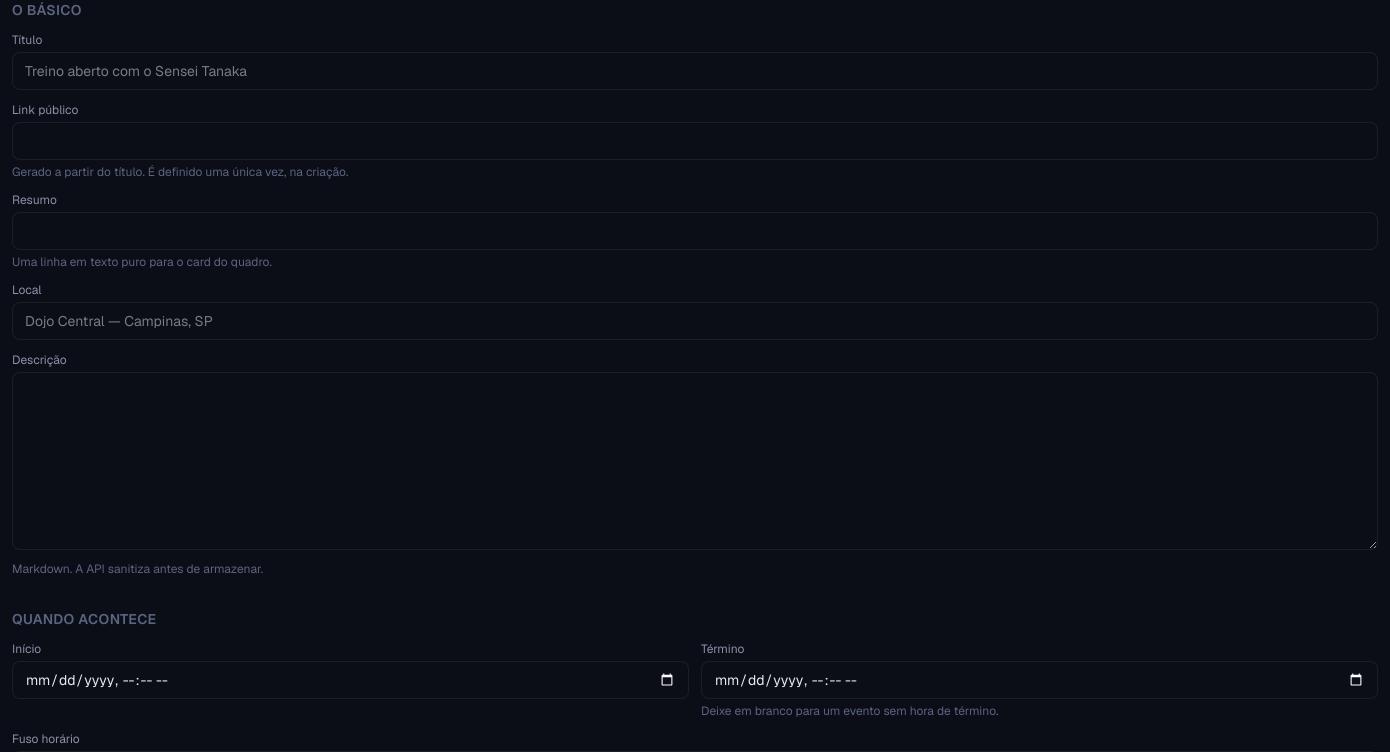
Test: EventForm — the WhatsApp message prefill › warns instead of overwriting once a human has edited the message
Type "Primeiro nome" into the field labelled "Título".
click(695, 71); type("Primeiro nome")  # box [12,52,1378,90]
(page scrolled)
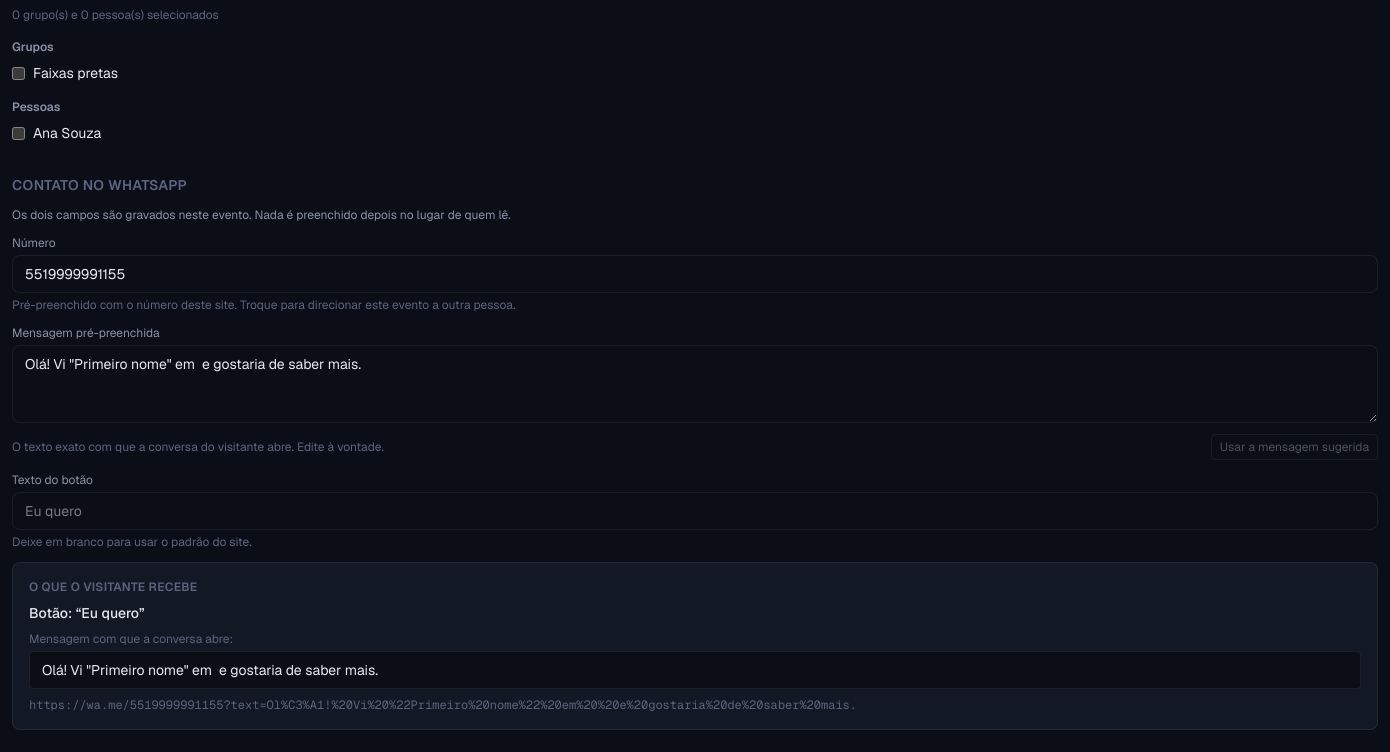
Replace the text in the text box labelled "Mensagem pré-preenchida" with "Texto escrito à mão" at (695,384), box [12,345,1378,423]
(page scrolled)
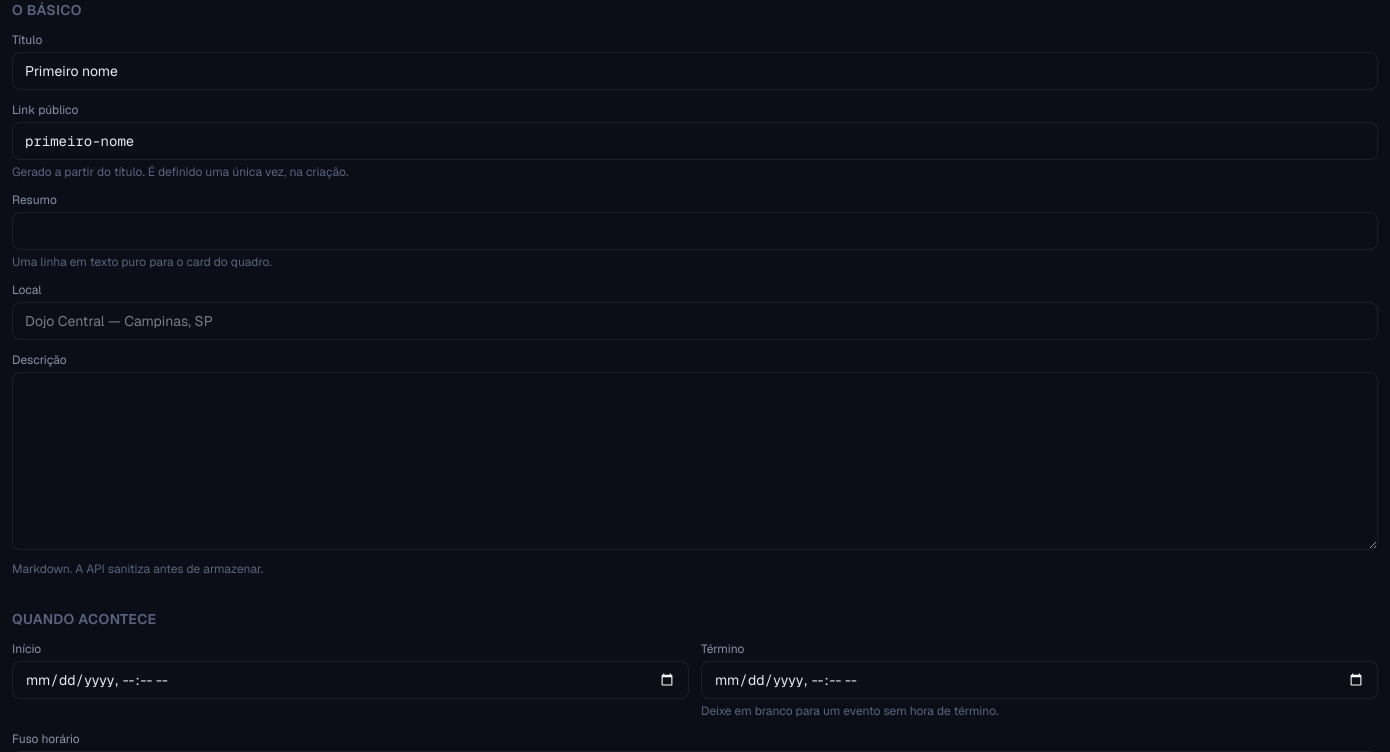
Type " revisado" into the field labelled "Título".
click(695, 71); type(" revisado")  # box [12,52,1378,90]
(page scrolled)
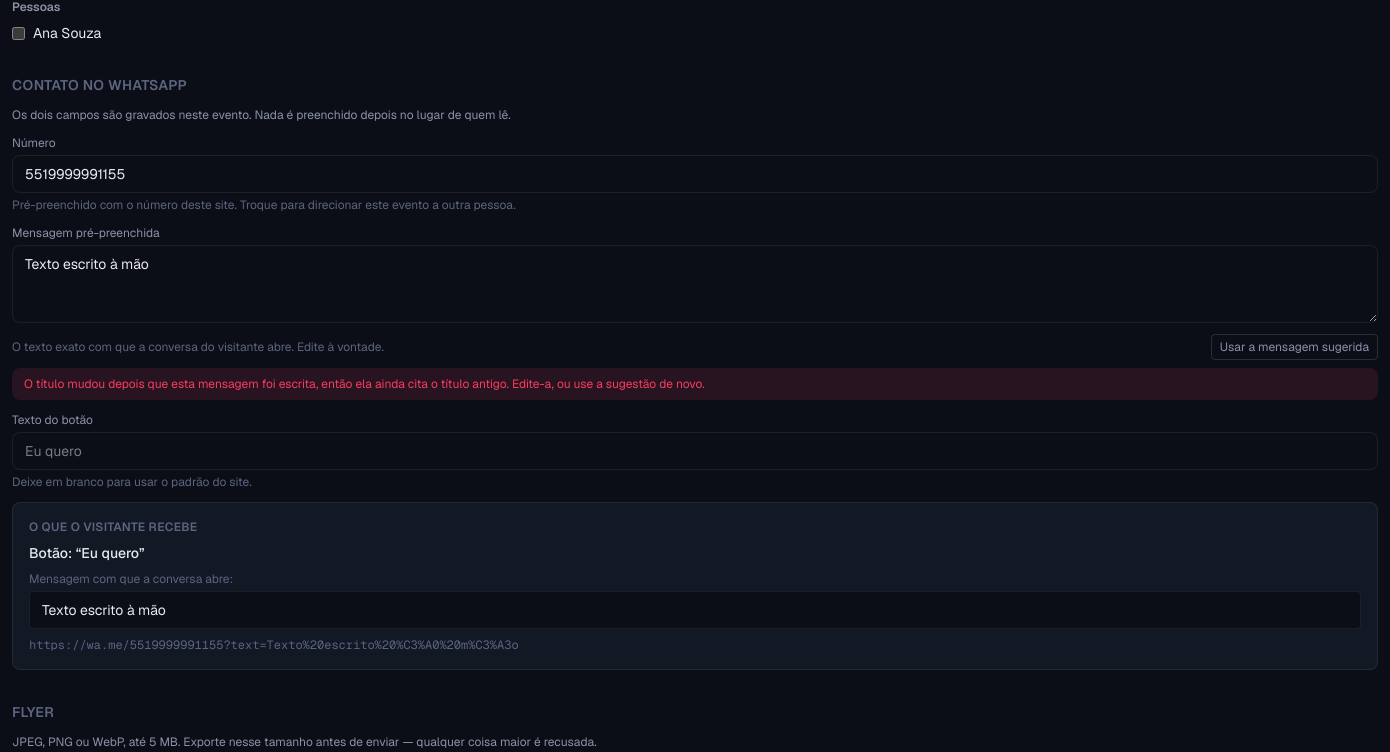
Check: the text "O título mudou depois que esta mensagem foi escrita, então ela ainda cita o título antigo. Edite-a, ou use a sugestão de" is shown, box [24,376,705,392]
